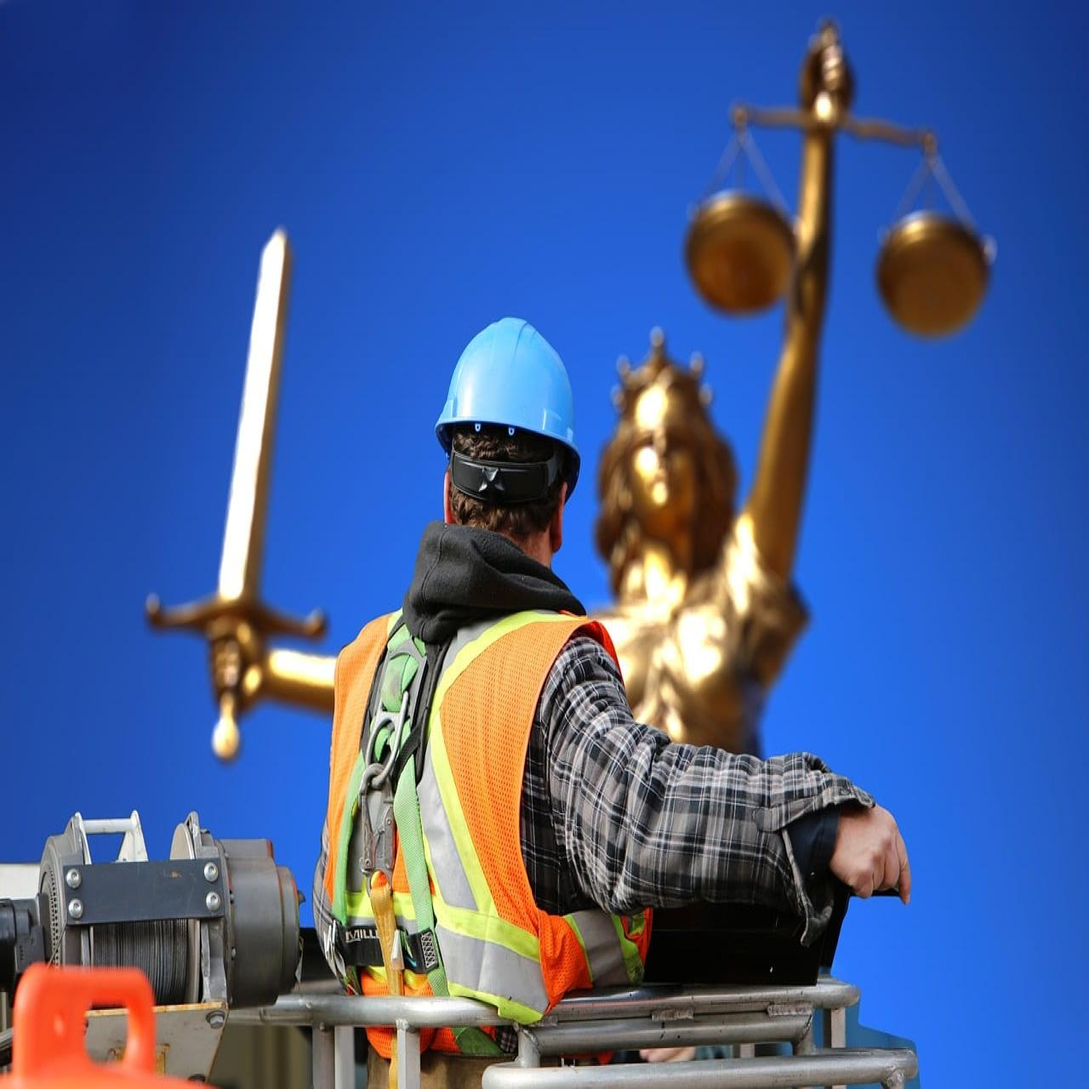Person: (291, 268, 932, 1089)
Safety_Vest: (325, 595, 674, 1066)
